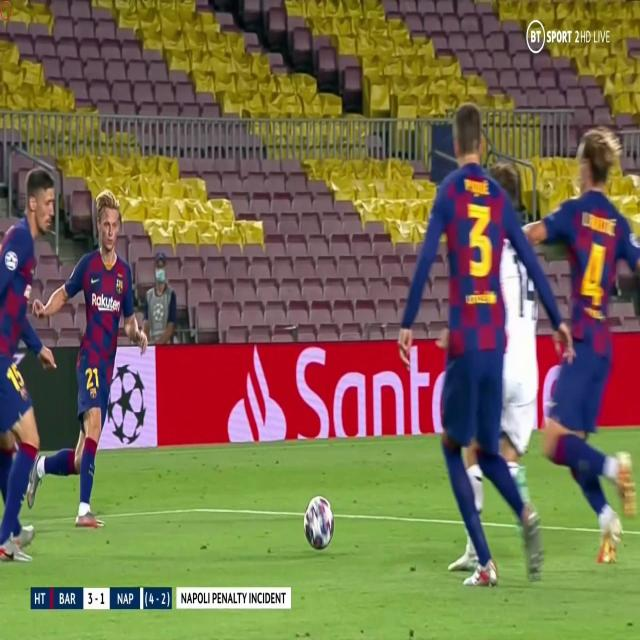ball: (299, 488, 339, 556)
player: (390, 80, 572, 588), (519, 103, 636, 577), (29, 180, 152, 535), (0, 168, 61, 565)
